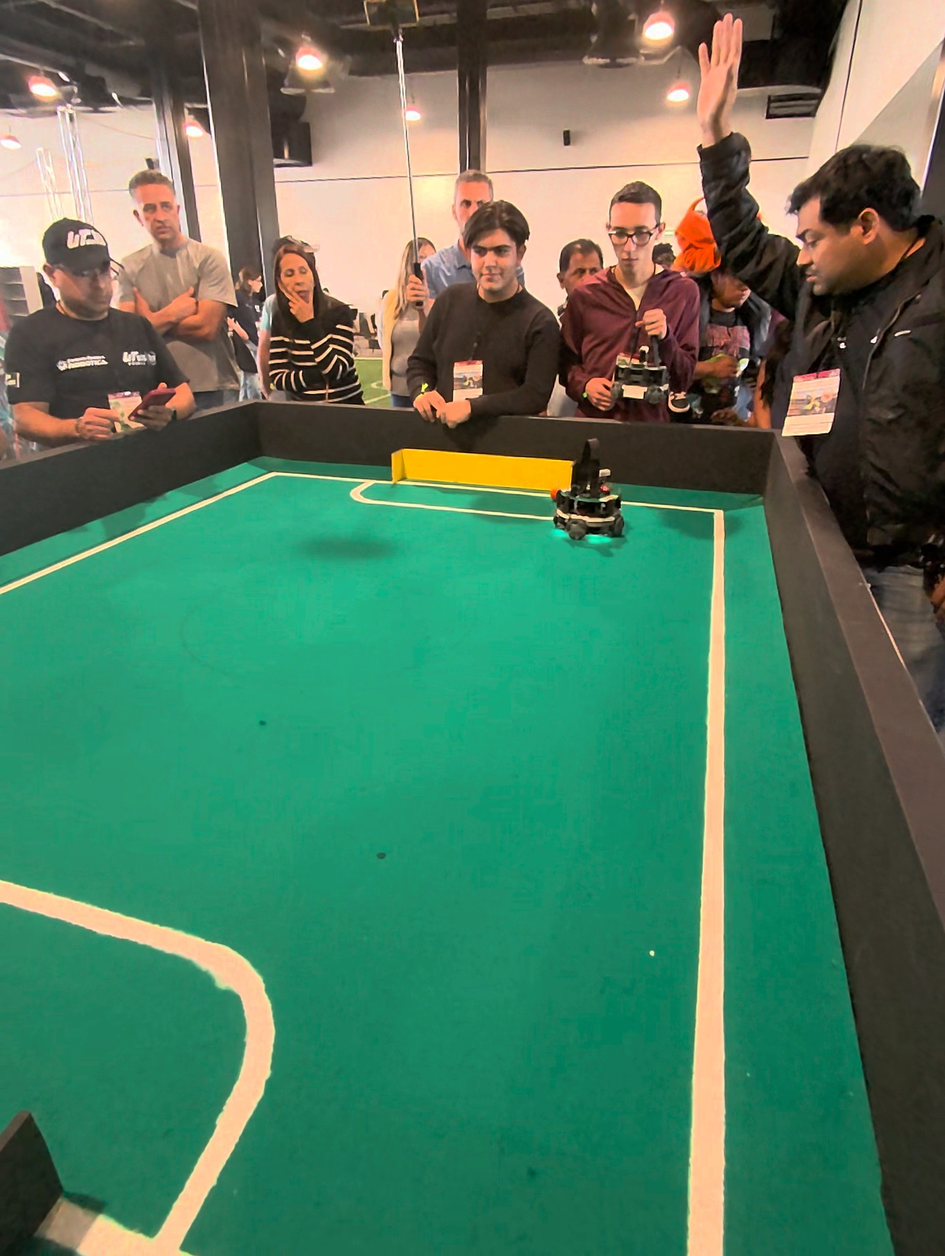Robot: (551, 432, 631, 550)
pelota: (548, 487, 565, 500)
